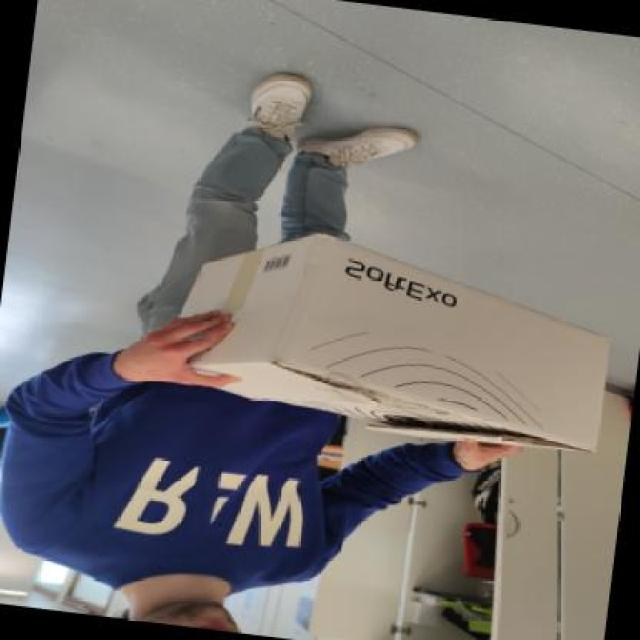box: (158, 213, 627, 467)
